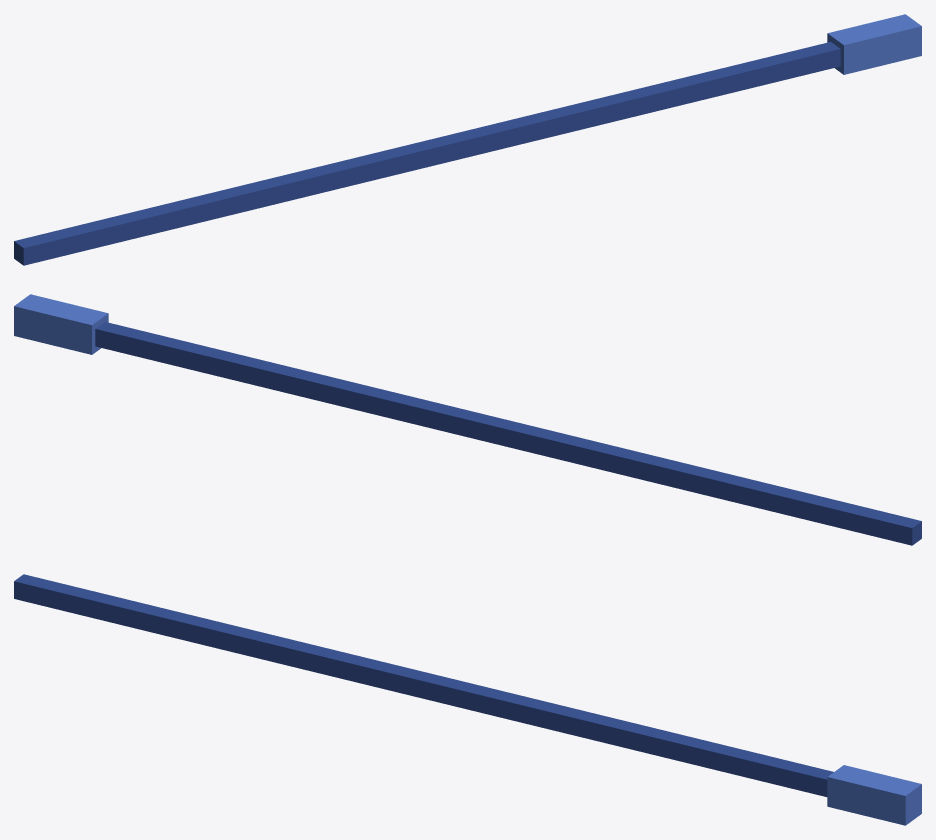
File: Cable_D_1_3.fbx
3 views of the same model, one above another, from view 1: azimuth 30°, elevation 25°; view 2: azimuth 150°, elevation 25°; view 3: azimuth 330°, elevation 25° (orthographic).
Visible parts, largest first — view 1: Cable_D_1_3; view 2: Cable_D_1_3; view 3: Cable_D_1_3.
Part boxes in pixels (box(x1,y1,x2,y2)): Cable_D_1_3: box(14, 14, 921, 265); Cable_D_1_3: box(14, 294, 921, 545); Cable_D_1_3: box(14, 574, 921, 825).
Size of the model in its own units: 309 by 9.83 by 9.83.
